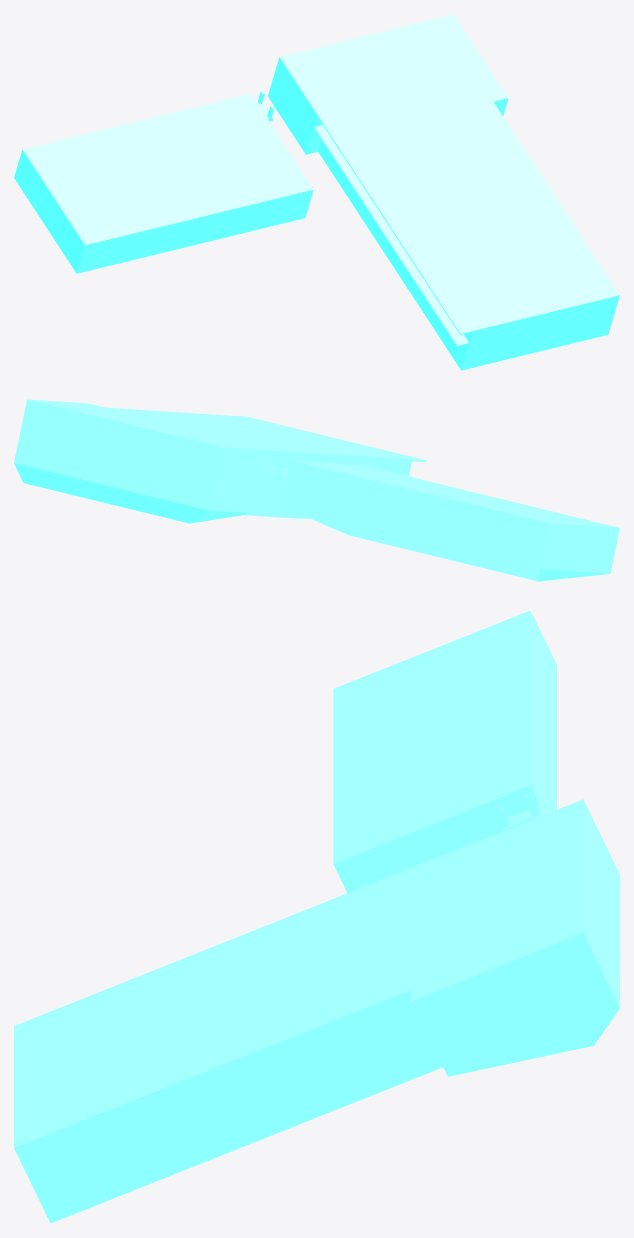
File: halo_uni.glb
The picture shows the model from 3 angles, top to bottom: view 1: azimuth 30°, elevation 25°; view 2: azimuth 150°, elevation 25°; view 3: azimuth 270°, elevation 25°; orthographic projection. The views are drawn at different scales.
Parts seen in each view (by area): view 1: SketchUp; view 2: SketchUp; view 3: SketchUp.
Part boxes in pixels (box(x1,y1,x2,y2)): SketchUp: box(14, 14, 619, 370); SketchUp: box(14, 399, 619, 581); SketchUp: box(14, 610, 619, 1223).
Bounding box in the file's own units: 94.71 × 39.59 × 70.64.
